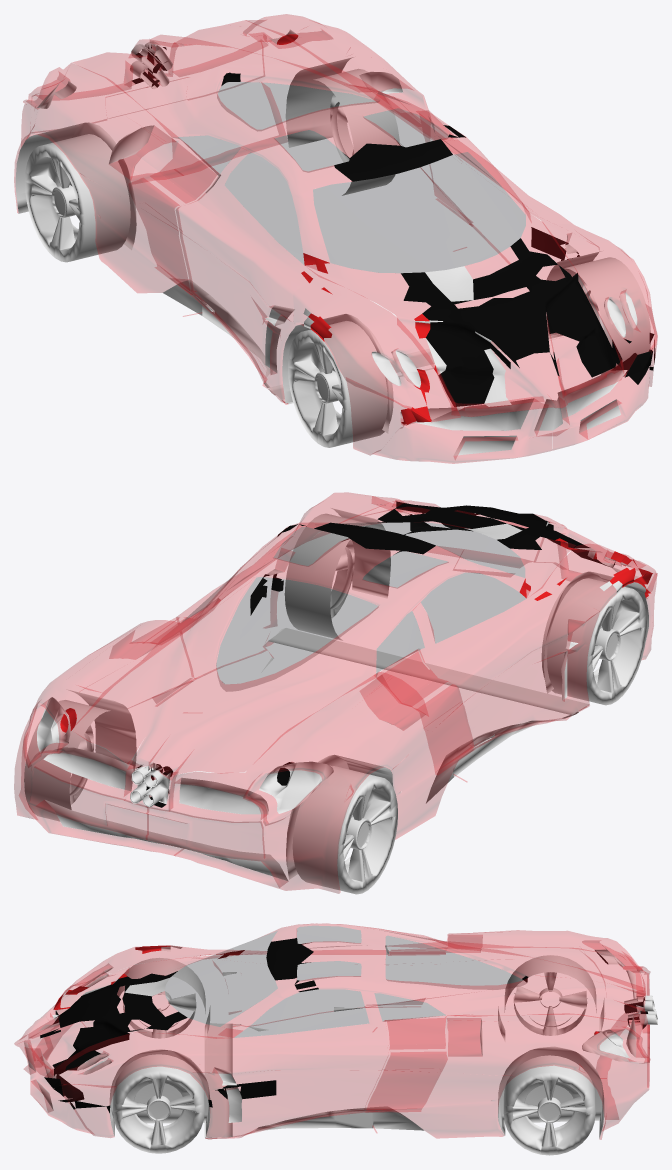
Rendered from car-model.glb.
3 renders of one model, top to bottom at view 1: azimuth 30°, elevation 25°; view 2: azimuth 150°, elevation 25°; view 3: azimuth 270°, elevation 25°, orthographic. The views are drawn at different scales.
Parts seen in each view (by area): view 1: 3DSMesh_9, 3DSMesh_10, 3DSMesh_8, 3DSMesh_2, 3DSMesh_0, 3DSMesh_4, 3DSMesh_6, 3DSMesh_1, 3DSMesh_3, 3DSMesh_11, 3DSMesh_5; view 2: 3DSMesh_9, 3DSMesh_8, 3DSMesh_10, 3DSMesh_2, 3DSMesh_0, 3DSMesh_6, 3DSMesh_4, 3DSMesh_1, 3DSMesh_3, 3DSMesh_11, 3DSMesh_7, 3DSMesh_5; view 3: 3DSMesh_9, 3DSMesh_10, 3DSMesh_8, 3DSMesh_4, 3DSMesh_6, 3DSMesh_7, 3DSMesh_5, 3DSMesh_3, 3DSMesh_2, 3DSMesh_0, 3DSMesh_11, 3DSMesh_1.
Part boxes in pixels (<box>): 3DSMesh_9: <box>14,14,657,463</box>; 3DSMesh_10: <box>177,82,525,272</box>; 3DSMesh_8: <box>15,57,637,455</box>; 3DSMesh_2: <box>25,134,130,262</box>; 3DSMesh_0: <box>288,321,393,447</box>; 3DSMesh_4: <box>313,68,399,195</box>; 3DSMesh_6: <box>564,257,650,376</box>; 3DSMesh_1: <box>294,342,342,436</box>; 3DSMesh_3: <box>31,157,79,250</box>; 3DSMesh_11: <box>54,29,297,98</box>; 3DSMesh_5: <box>330,94,354,162</box>; 3DSMesh_9: <box>14,492,657,893</box>; 3DSMesh_8: <box>26,504,648,881</box>; 3DSMesh_10: <box>182,522,526,691</box>; 3DSMesh_2: <box>292,766,397,894</box>; 3DSMesh_0: <box>541,578,646,705</box>; 3DSMesh_6: <box>284,513,370,640</box>; 3DSMesh_4: <box>24,700,110,821</box>; 3DSMesh_1: <box>592,599,640,693</box>; 3DSMesh_3: <box>343,788,391,882</box>; 3DSMesh_11: <box>52,709,286,807</box>; 3DSMesh_7: <box>330,539,354,618</box>; 3DSMesh_5: <box>69,725,93,804</box>; 3DSMesh_9: <box>14,923,650,1139</box>; 3DSMesh_10: <box>165,926,526,1037</box>; 3DSMesh_8: <box>24,945,642,1138</box>; 3DSMesh_4: <box>503,1055,595,1155</box>; 3DSMesh_6: <box>113,1054,204,1153</box>; 3DSMesh_7: <box>122,1078,195,1144</box>; 3DSMesh_5: <box>513,1080,586,1146</box>; 3DSMesh_3: <box>513,972,587,1035</box>; 3DSMesh_2: <box>504,955,596,1029</box>; 3DSMesh_0: <box>117,957,205,1032</box>; 3DSMesh_11: <box>594,949,657,1045</box>; 3DSMesh_1: <box>123,974,196,1038</box>.
Bounding box in the file's own units: 8.52 × 4.84 × 19.33.
